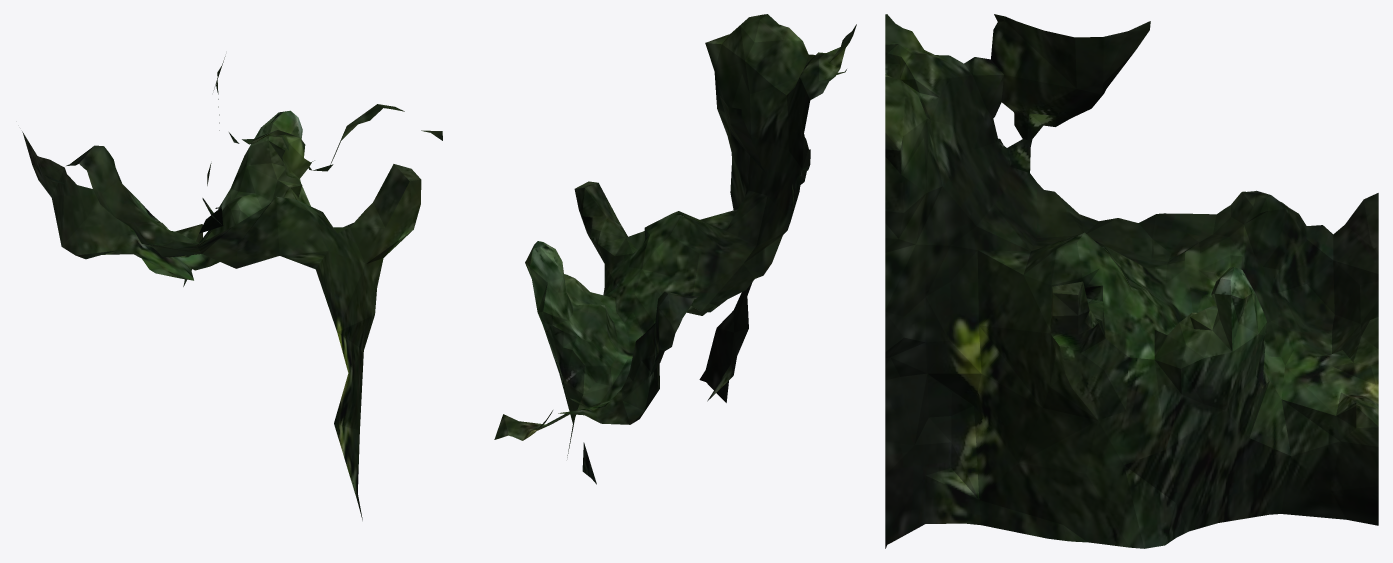
The picture shows the model from 3 angles, left to right: view 1: azimuth 30°, elevation 25°; view 2: azimuth 150°, elevation 25°; view 3: azimuth 270°, elevation 25°; orthographic projection. The views are drawn at different scales.
Bounding box in the file's own units: 0.4406 × 0.8374 × 0.8373.
Materials: 3 (3 with a texture image).
